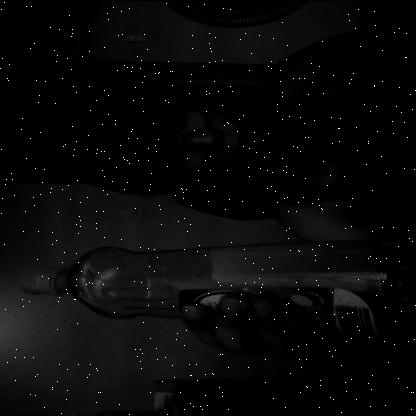Plastic Bottle: (15, 231, 416, 359)
